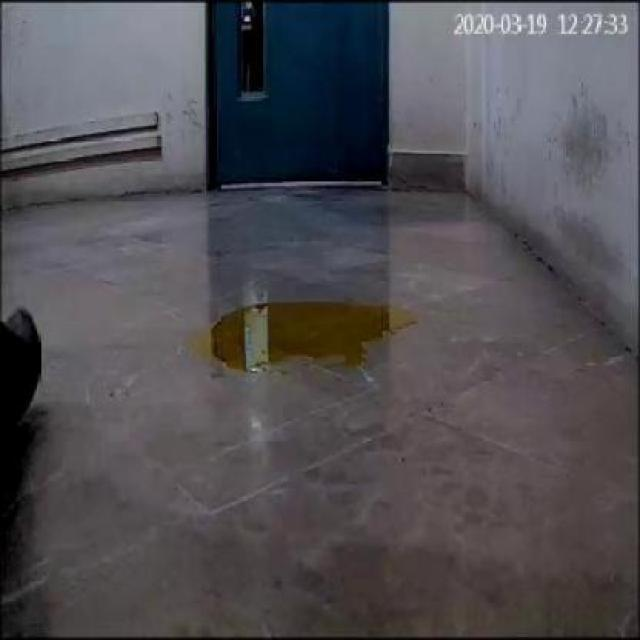spillage: (210, 302, 416, 373)
